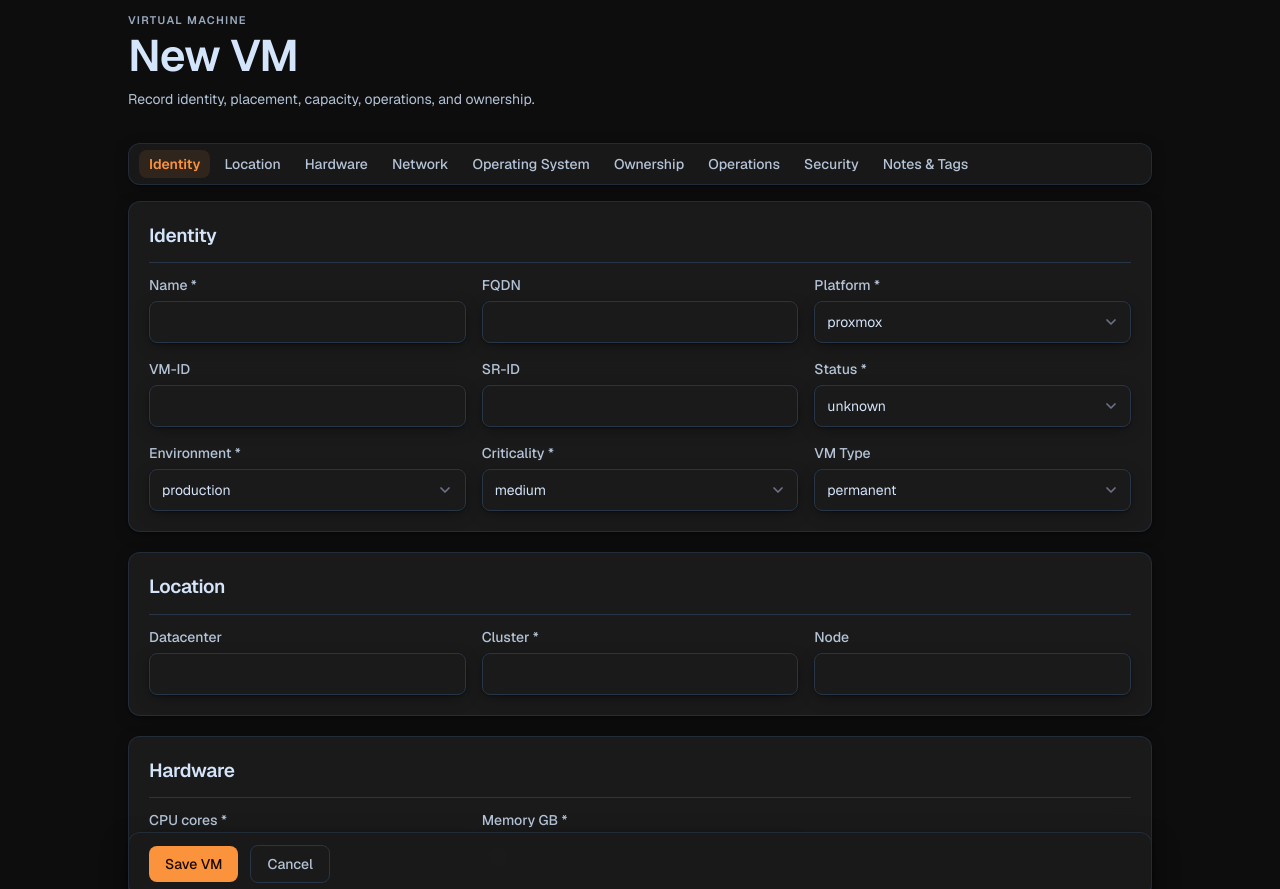
it: VmFormPage › shows validation errors and does not submit when required fields are blank
Expected: the heading "New VM" is shown, left=128, top=26, right=298, bottom=84
What coordinates should you click on to do the following:
click the button "Save VM"
I would click on:
 (194, 864)
Its box is left=149, top=846, right=238, bottom=882.
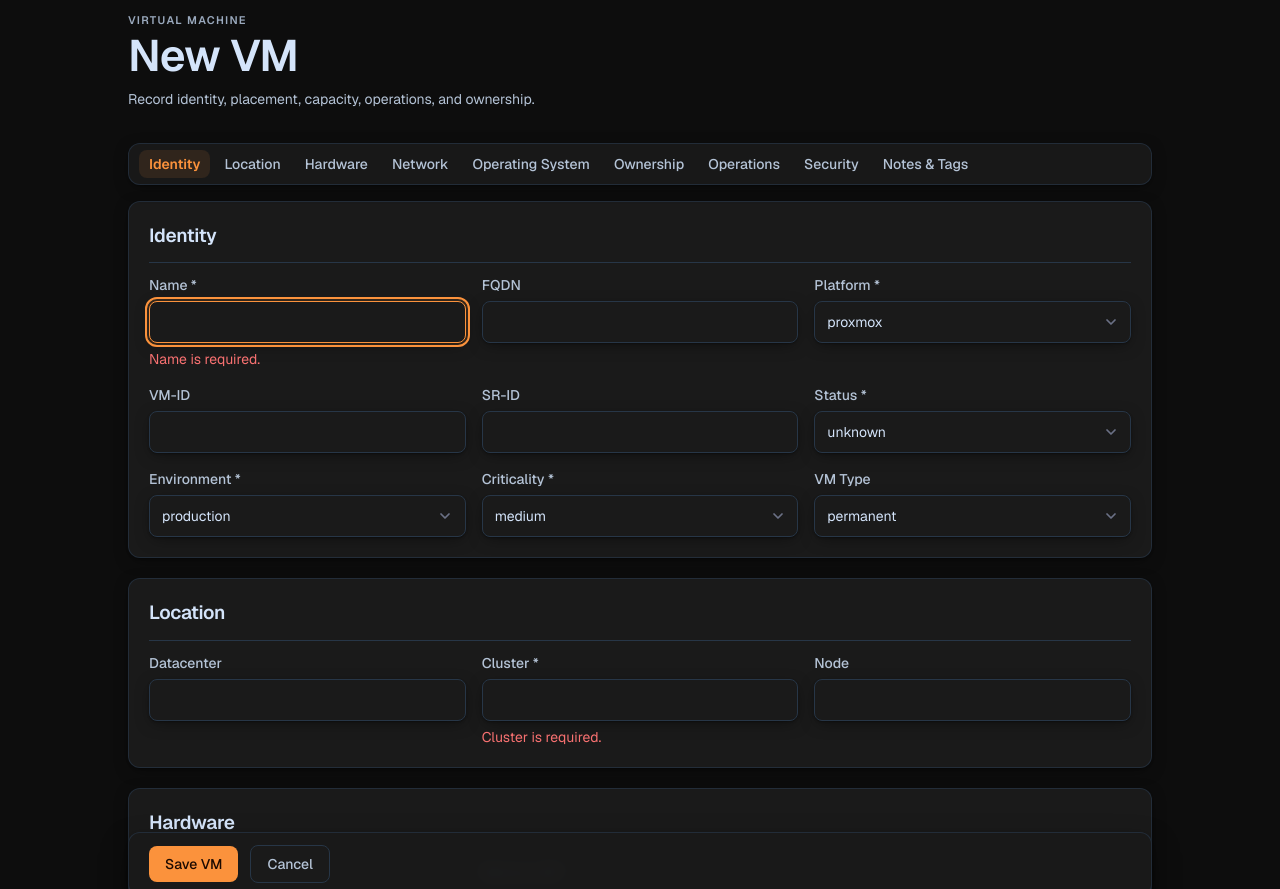
Now the text "Name is required." is shown, box left=149, top=350, right=260, bottom=368
Now the text "Cluster is required." is shown, box left=482, top=728, right=601, bottom=746
